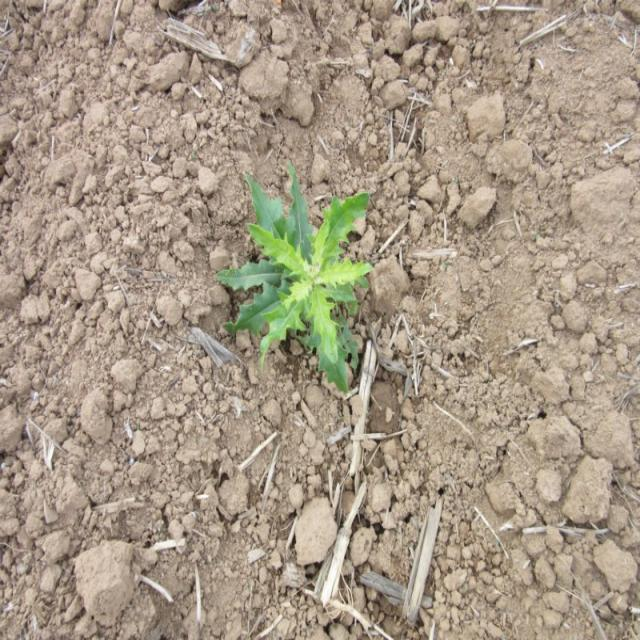cs: (212, 157, 375, 396)
